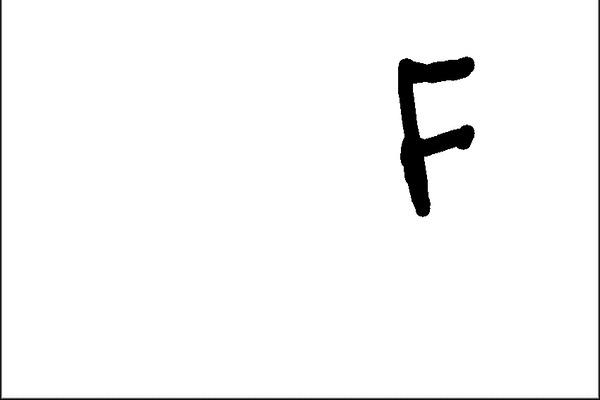F: (391, 52, 484, 222)
